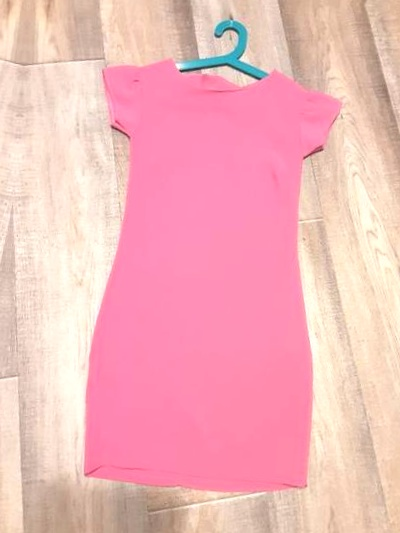Dress: (52, 33, 385, 521)
